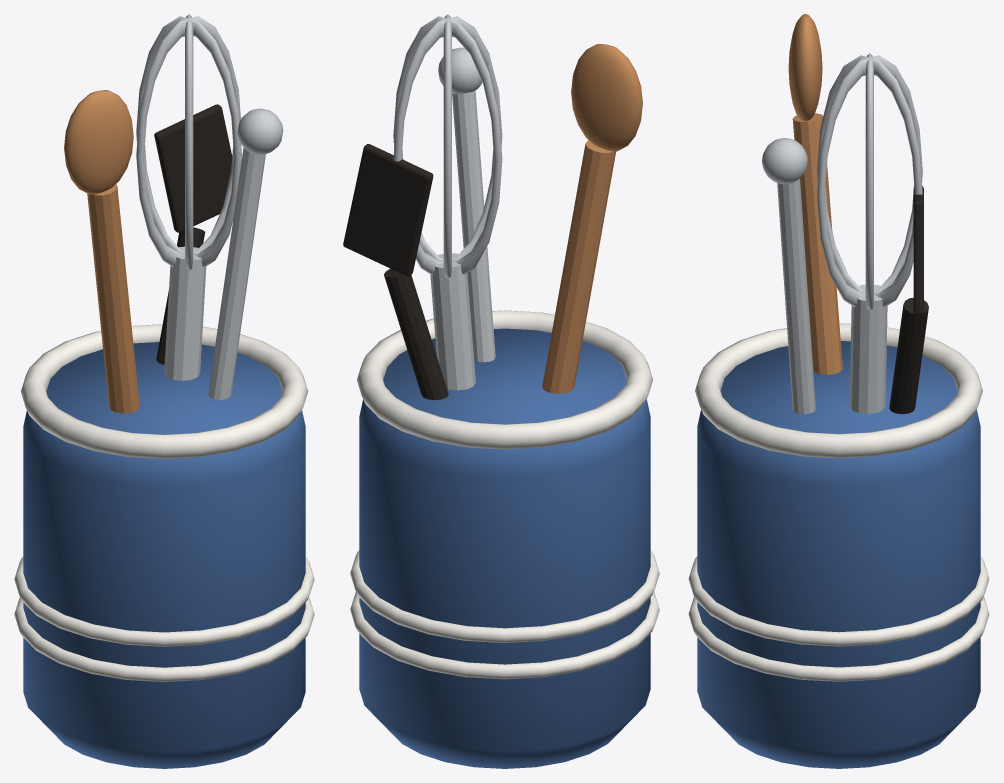
Rendered from hh_cat_utensil_jar.glb.
The picture shows the model from 3 angles, left to right: view 1: azimuth 30°, elevation 25°; view 2: azimuth 150°, elevation 25°; view 3: azimuth 270°, elevation 25°; orthographic projection. The views are drawn at different scales.
Visible parts, largest first — view 1: jar, jar_rim, spoon, spatula.001, ladle, spoon.001, band.001, band, whisk, whisk_wire, whisk_wire.002, whisk_wire.001 (+2 smaller); view 2: jar, jar_rim, spoon, spatula.001, spoon.001, ladle, band.001, band, whisk, whisk_wire, spatula, whisk_wire.001 (+2 smaller); view 3: jar, jar_rim, spoon, ladle, band.001, band, whisk, whisk_wire.002, whisk_wire.001, spoon.001, spatula, whisk_wire (+2 smaller).
Part boxes in pixels (box(x1,y1,x2,y2)): jar: box(23, 342, 305, 768); jar_rim: box(20, 324, 308, 458); spoon: box(87, 184, 139, 413); spatula.001: box(154, 104, 232, 232); ladle: box(208, 148, 265, 399); spoon.001: box(64, 90, 133, 194); band.001: box(14, 557, 314, 646); band: box(14, 597, 314, 681); whisk: box(164, 246, 206, 380); whisk_wire: box(136, 16, 240, 266); whisk_wire.002: box(136, 16, 241, 267); whisk_wire.001: box(185, 14, 193, 270); jar: box(359, 328, 650, 768); jar_rim: box(357, 310, 652, 449); spoon: box(542, 140, 615, 393); spatula.001: box(343, 144, 433, 276); spoon.001: box(571, 44, 642, 151); ladle: box(452, 91, 495, 362); band.001: box(350, 550, 659, 642); band: box(350, 592, 659, 679); whisk: box(430, 253, 475, 390); whisk_wire: box(393, 16, 502, 274); spatula: box(384, 268, 448, 400); whisk_wire.001: box(393, 16, 502, 275); jar: box(697, 341, 980, 768); jar_rim: box(695, 323, 982, 458); spoon: box(792, 113, 842, 374); ladle: box(777, 179, 815, 414); band.001: box(688, 556, 989, 646); band: box(688, 597, 989, 681); whisk: box(849, 284, 887, 413); whisk_wire.002: box(817, 55, 922, 307); whisk_wire.001: box(817, 55, 922, 307); spoon.001: box(788, 14, 822, 121); spatula: box(889, 297, 928, 414); whisk_wire: box(865, 53, 873, 310).
Size of the model in its own units: 0.12 by 0.3 by 0.12.
